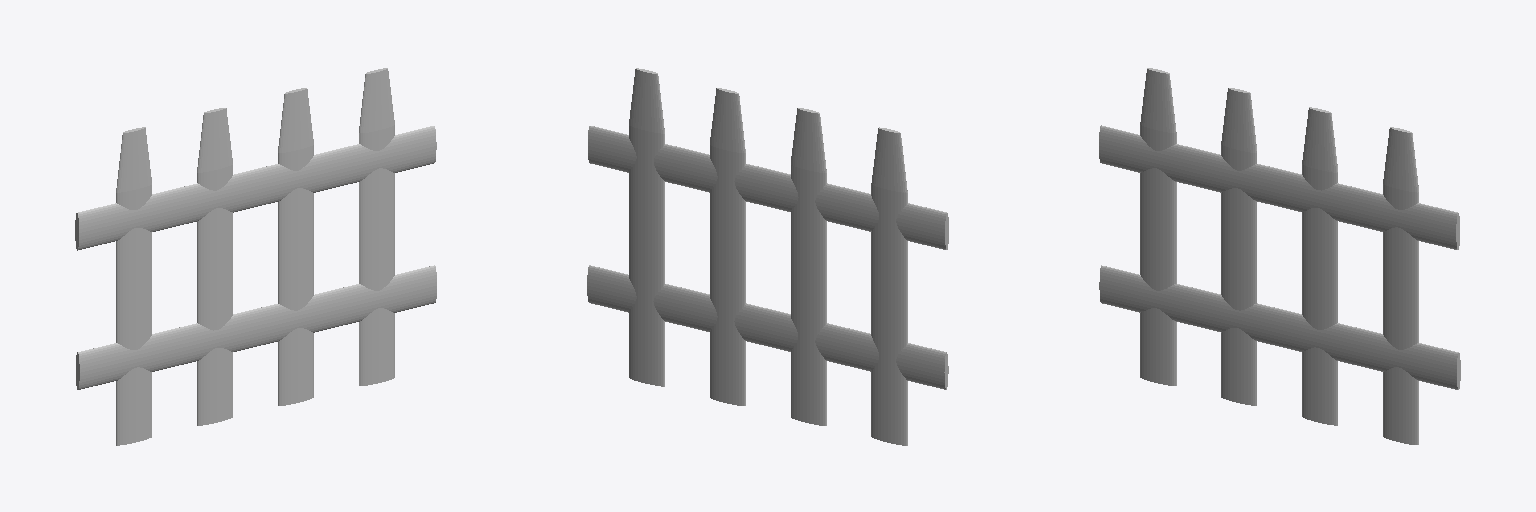
Rendered from Test Fence.obj.
3 renders of one model, left to right at view 1: azimuth 30°, elevation 25°; view 2: azimuth 150°, elevation 25°; view 3: azimuth 330°, elevation 25°, orthographic.
Visible parts, largest first — view 1: Cylinder.005_Cylinder.011, Cylinder.004, Cylinder.001_Cylinder.007, Cylinder.003_Cylinder.009, Cylinder, Cylinder.002_Cylinder.008; view 2: Cylinder.003_Cylinder.009, Cylinder, Cylinder.001_Cylinder.007, Cylinder.002_Cylinder.008, Cylinder.004, Cylinder.005_Cylinder.011; view 3: Cylinder.005_Cylinder.011, Cylinder.004, Cylinder.003_Cylinder.009, Cylinder, Cylinder.002_Cylinder.008, Cylinder.001_Cylinder.007.
Boxes of the visible parts, <box> form: Cylinder.005_Cylinder.011: <box>76,265,436,389</box>; Cylinder.004: <box>75,126,436,250</box>; Cylinder.001_Cylinder.007: <box>278,88,313,405</box>; Cylinder.003_Cylinder.009: <box>116,127,151,445</box>; Cylinder: <box>359,68,394,385</box>; Cylinder.002_Cylinder.008: <box>197,108,232,425</box>; Cylinder.003_Cylinder.009: <box>871,127,907,445</box>; Cylinder: <box>629,68,664,386</box>; Cylinder.001_Cylinder.007: <box>710,88,745,405</box>; Cylinder.002_Cylinder.008: <box>791,108,826,425</box>; Cylinder.004: <box>588,126,948,249</box>; Cylinder.005_Cylinder.011: <box>587,265,948,389</box>; Cylinder.005_Cylinder.011: <box>1099,265,1460,389</box>; Cylinder.004: <box>1099,125,1459,249</box>; Cylinder.003_Cylinder.009: <box>1140,68,1176,385</box>; Cylinder: <box>1383,127,1418,444</box>; Cylinder.002_Cylinder.008: <box>1221,88,1256,405</box>; Cylinder.001_Cylinder.007: <box>1302,107,1337,425</box>.
Size of the model in its own units: 7.31 by 6.07 by 0.1519.